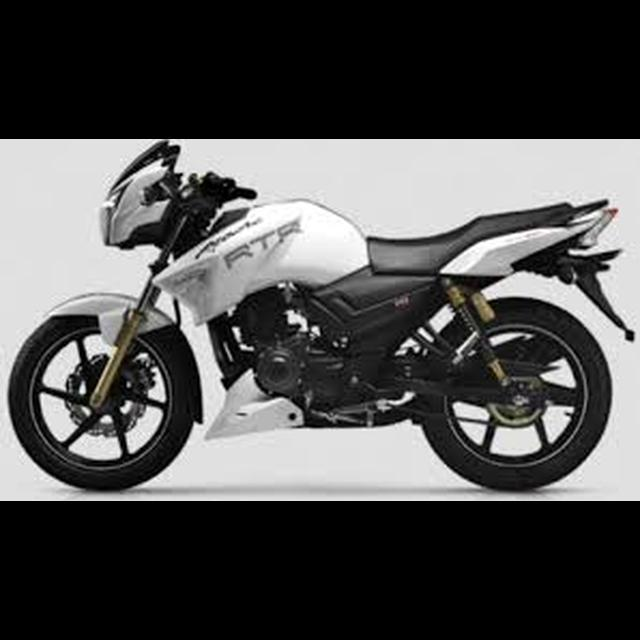motorcycle: (7, 137, 640, 498)
